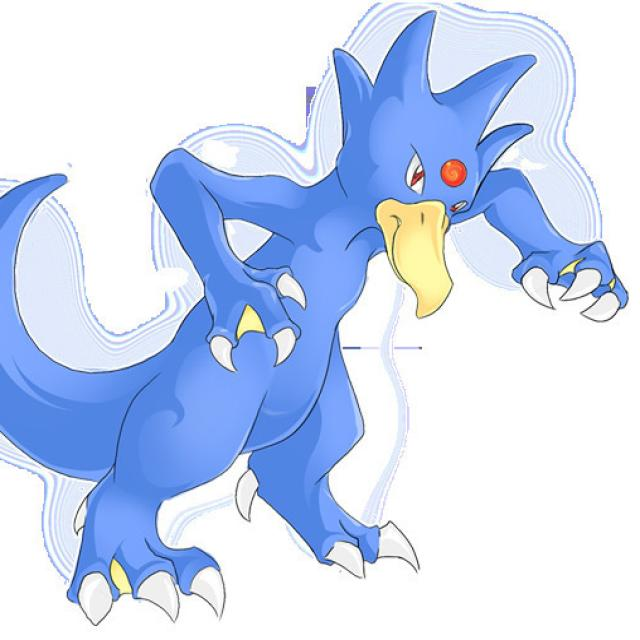Golduck: (0, 9, 633, 625)
